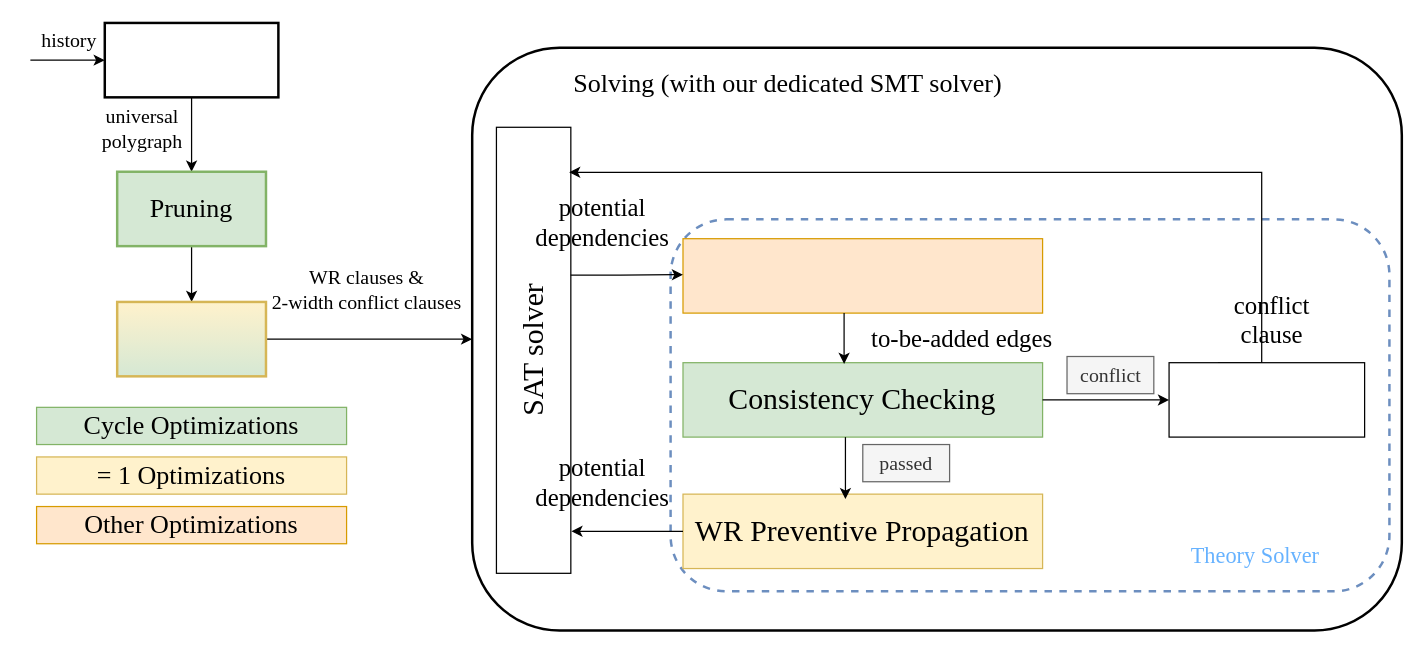
This 1425x652 diagram has some shape labels left out. Each missing label, with the box of its shape:
C onstructing: (103, 21, 279, 98)
Conflict Clause Generation: (1168, 361, 1365, 437)
Encoding: (115, 300, 267, 377)
RW Derivation: (682, 237, 1043, 313)
